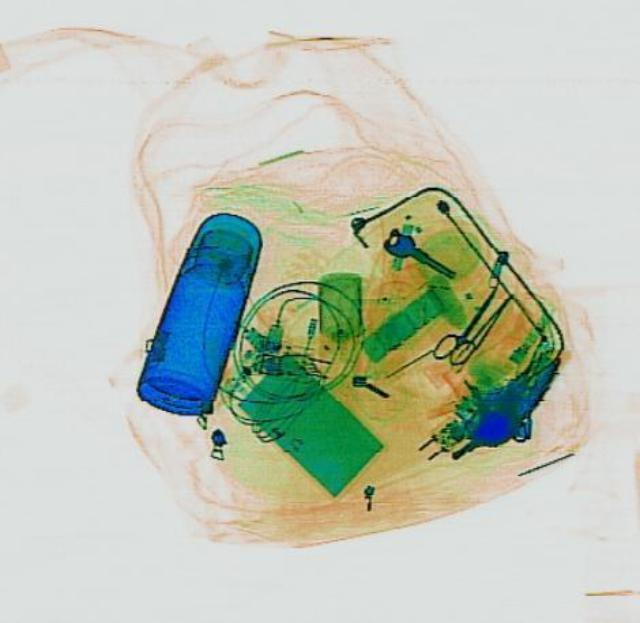Scissors: (426, 279, 508, 370)
